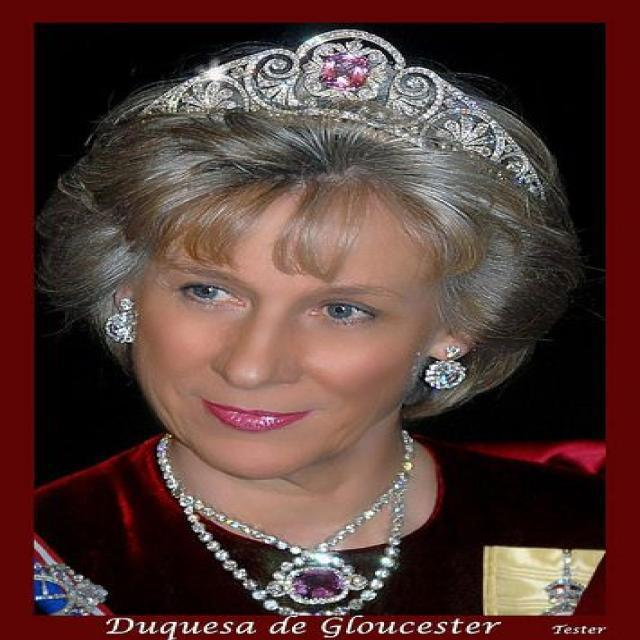Earring: (100, 287, 150, 359), (430, 338, 480, 398)
